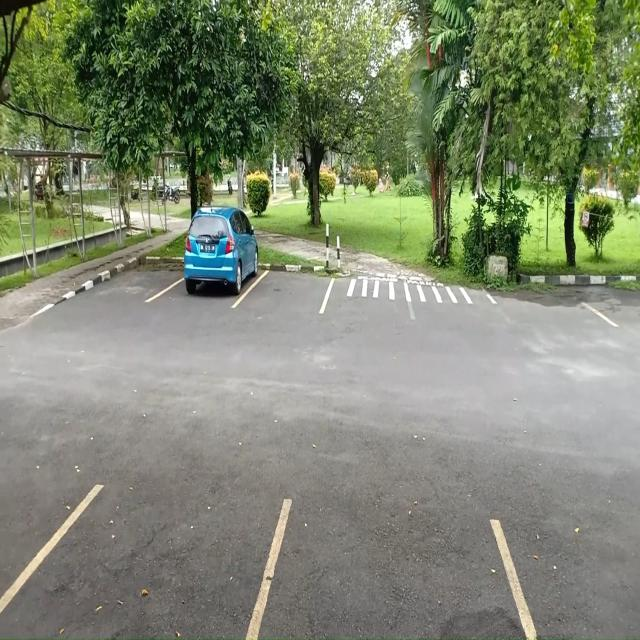empty: (13, 497, 281, 640), (268, 498, 515, 640), (256, 248, 332, 316)
occupied: (175, 238, 260, 306)
